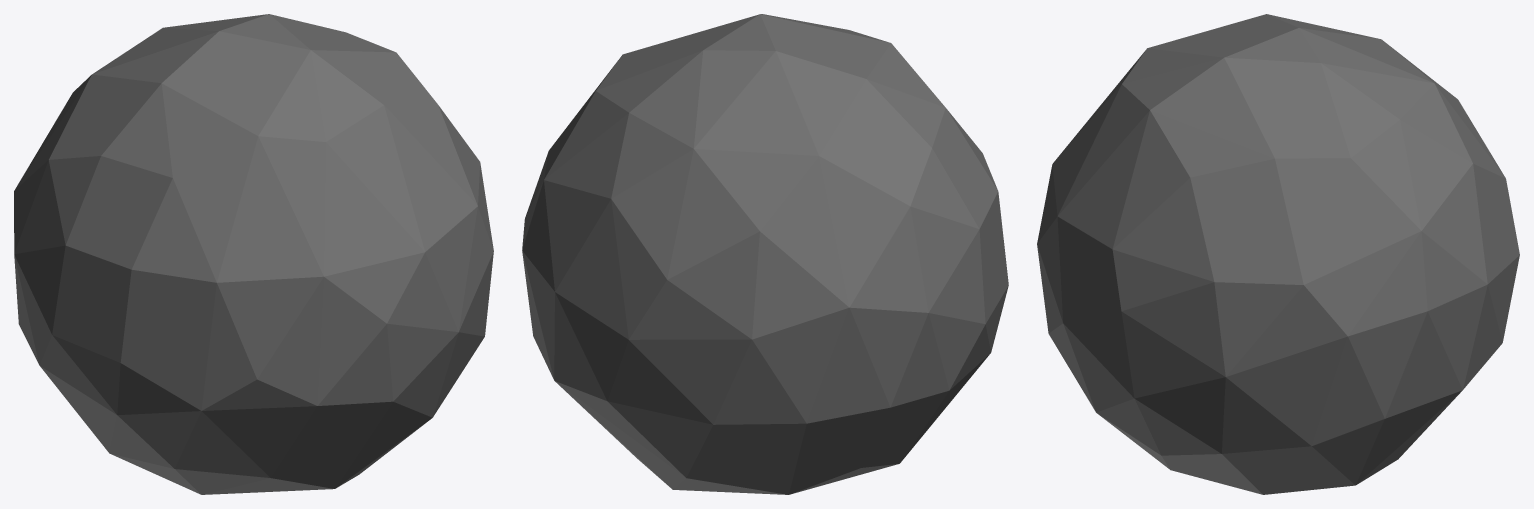
Rendered from cannonBall.fbx.
The picture shows the model from 3 angles, left to right: view 1: azimuth 30°, elevation 25°; view 2: azimuth 150°, elevation 25°; view 3: azimuth 270°, elevation 25°; orthographic projection.
Visible parts, largest first — view 1: CannonBall; view 2: CannonBall; view 3: CannonBall.
Part boxes in pixels (x1,y1,x2,y2): CannonBall: (14, 14, 493, 494); CannonBall: (522, 14, 1008, 494); CannonBall: (1037, 14, 1519, 494).
Size of the model in its own units: 102 by 104 by 104.
